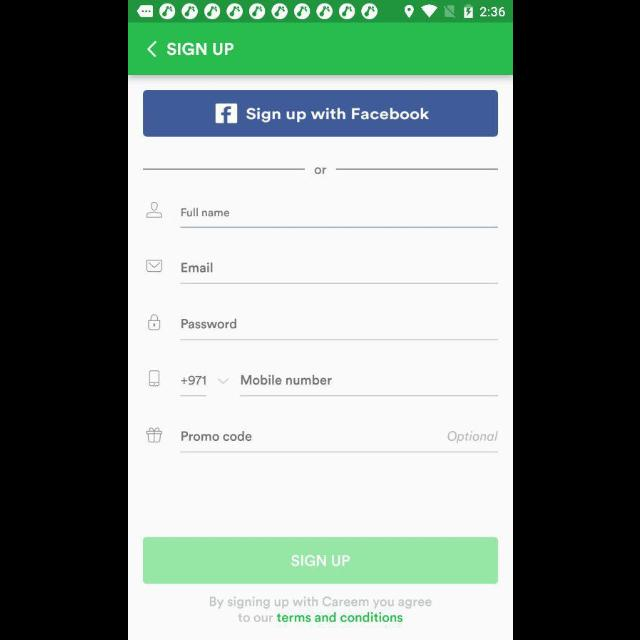icon: (145, 428, 163, 444), (146, 202, 162, 218), (146, 259, 162, 273), (148, 314, 160, 331), (146, 42, 156, 58), (216, 378, 228, 384)
image: (148, 370, 160, 388)
input: (180, 431, 498, 453), (180, 319, 498, 341), (179, 262, 497, 284), (179, 208, 497, 228), (239, 374, 497, 396), (179, 376, 207, 396)
text: (204, 594, 436, 624), (240, 374, 332, 386), (166, 42, 234, 56), (182, 431, 252, 442), (447, 431, 499, 444), (180, 318, 236, 329), (181, 208, 229, 218), (181, 262, 213, 274), (180, 376, 206, 386), (314, 167, 326, 175)
textbutton: (142, 536, 498, 584), (142, 90, 498, 138)
toolbar: (128, 24, 512, 76)
uppertaskbar: (128, 1, 512, 23)
